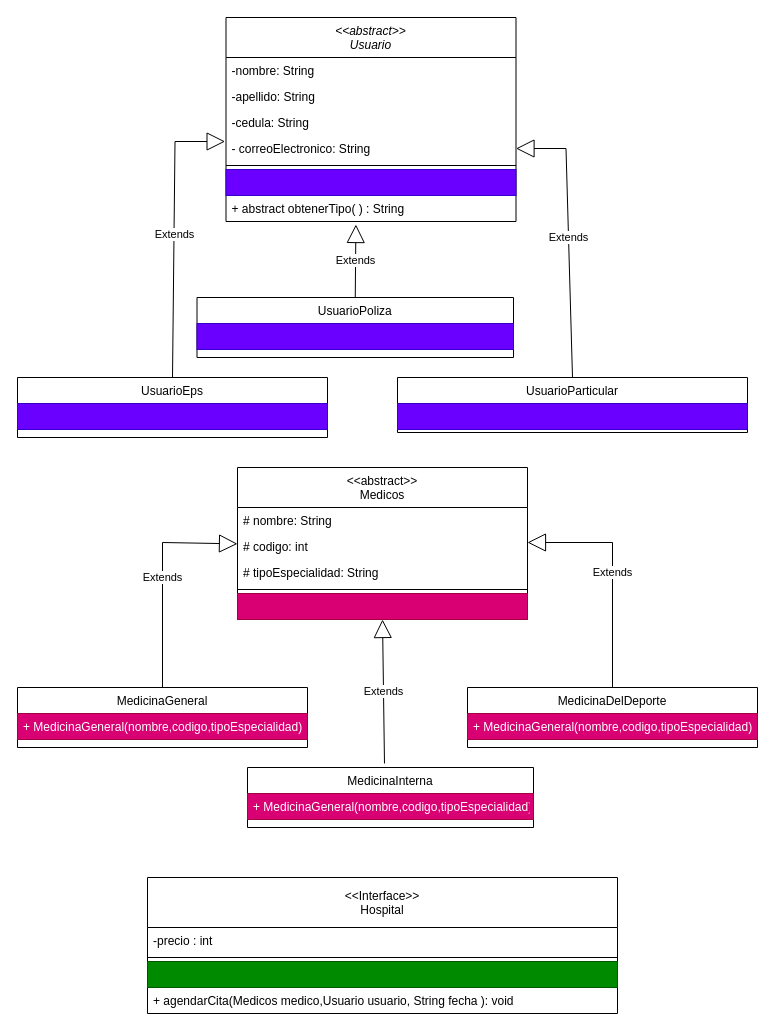
This 775x1034 diagram has some shape labels left out. Each missing label, with the centre of its shape:
"+ Especialidad (nombre, codigo, tipoEspecialidad)" goes at (x=382, y=606).
"+ Hospital( )" goes at (x=382, y=974).
"+ Usuario(nombre,apellido,cedula,correoElectronico)" goes at (x=370, y=182).
"+ UsuarioEps(nombre,apellido,cedula,correoElectronico)" goes at (x=172, y=416).
"+ UsuarioParticular(nombre,apellido,cedula,correoElectronico)" goes at (x=572, y=416).
"UsuarioPoliza(nombre,apellido,cedula,correoElectronico)" goes at (x=355, y=336).
